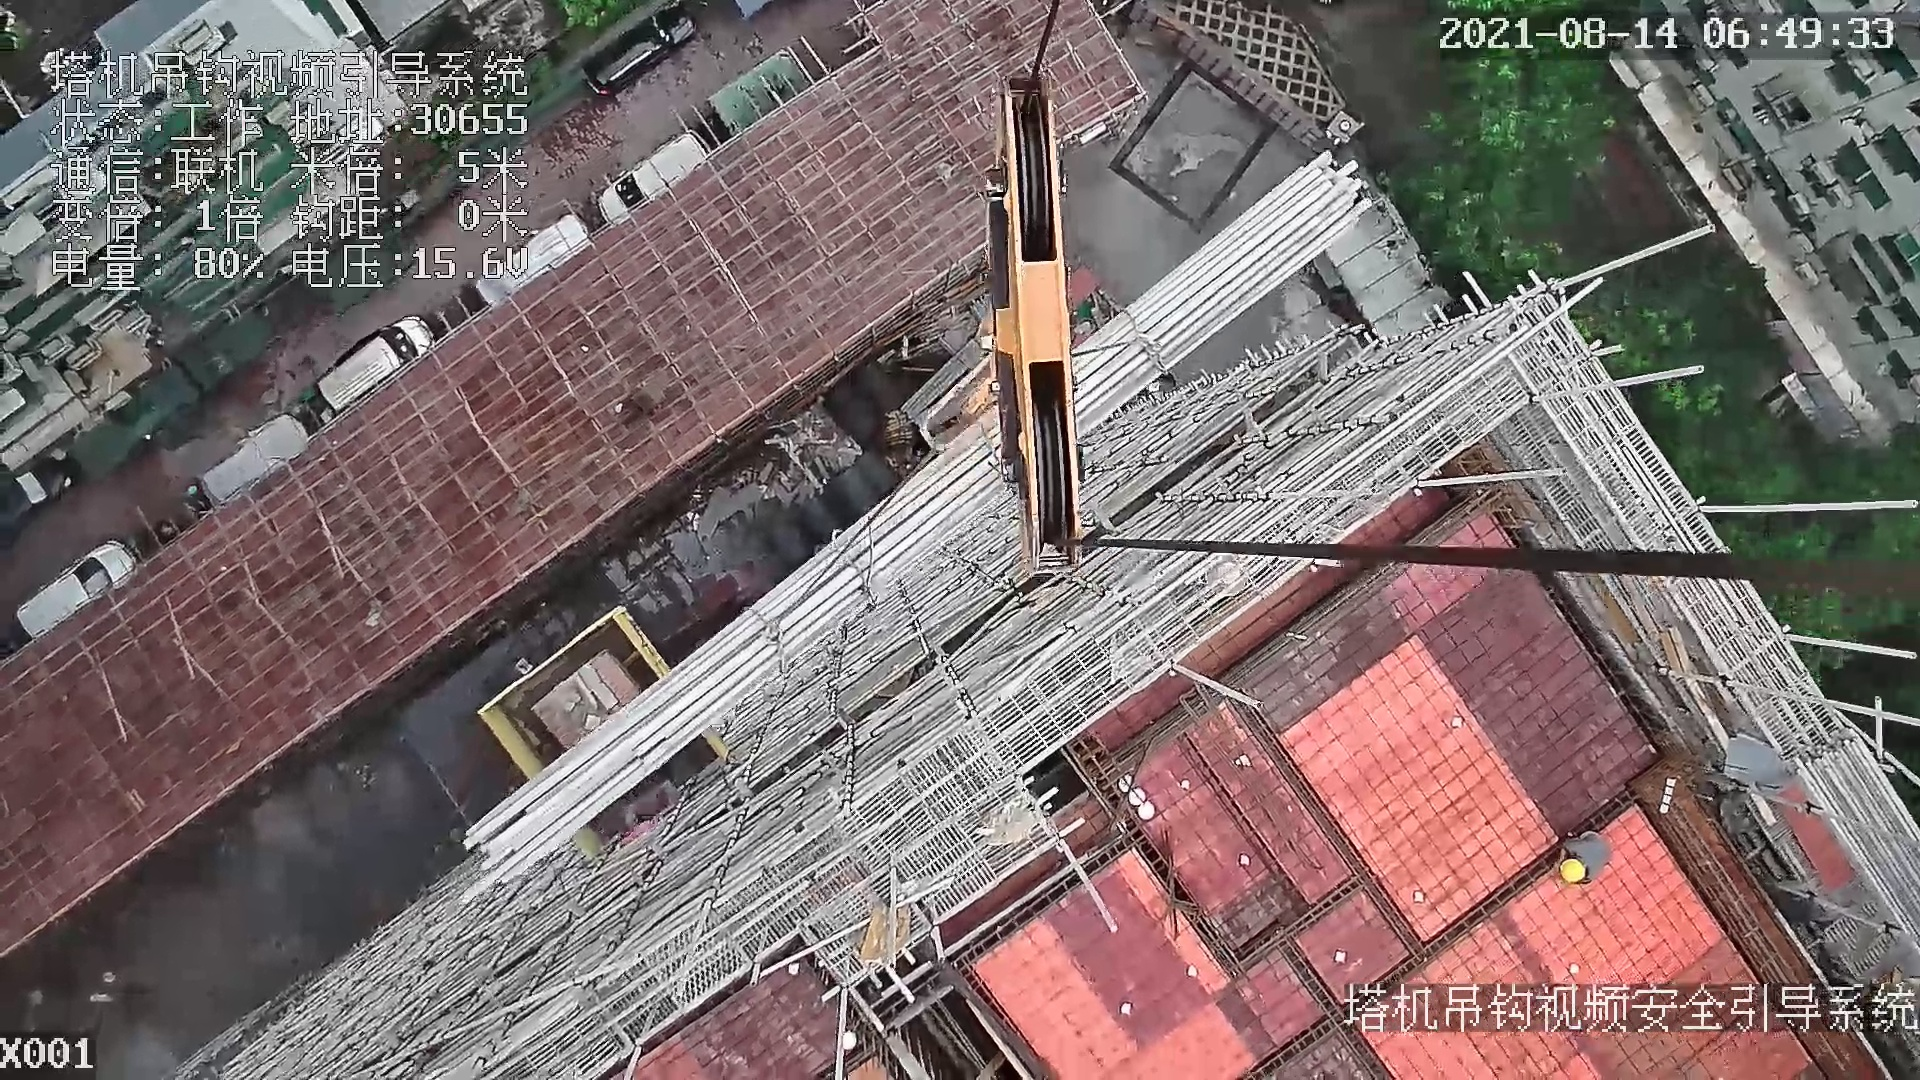helmet: (1556, 858, 1592, 889)
hook: (953, 65, 1090, 574)
person: (1558, 831, 1605, 886)
